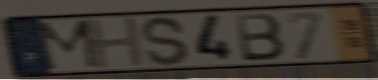4: (193, 13, 239, 66)
7: (285, 9, 327, 61)
B: (232, 11, 288, 63)
H: (86, 15, 149, 71)
M: (35, 17, 103, 73)
S: (139, 14, 192, 68)
